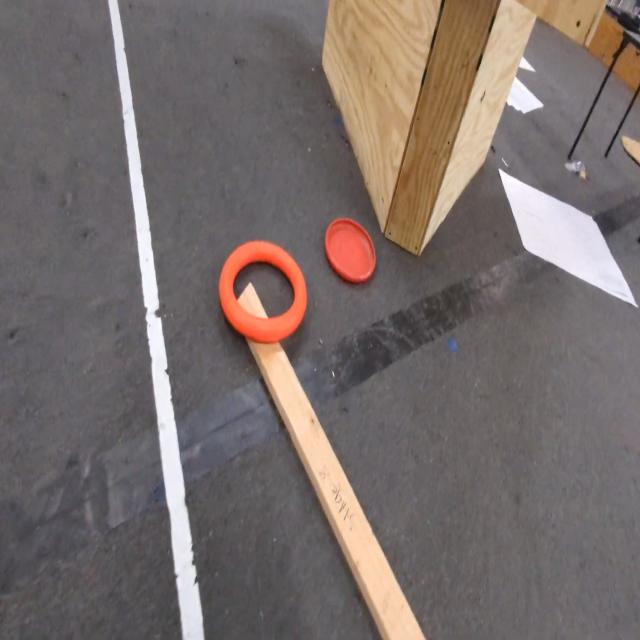note: (221, 241, 309, 342)
